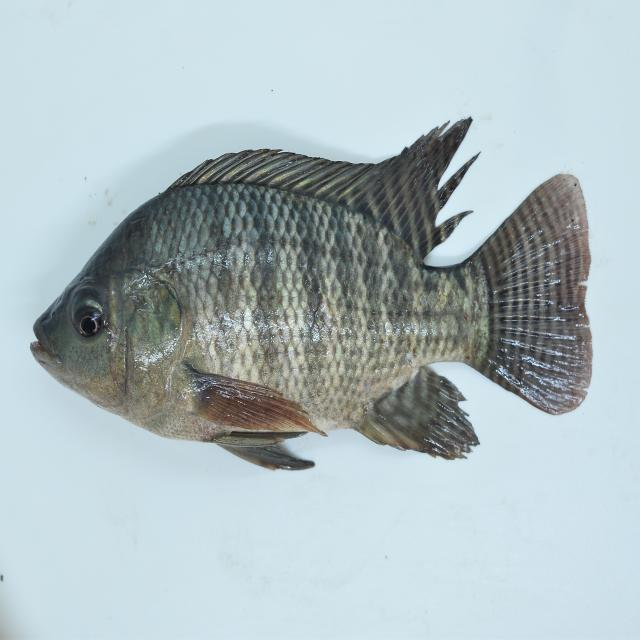Healthy Fish: (27, 114, 600, 477)
